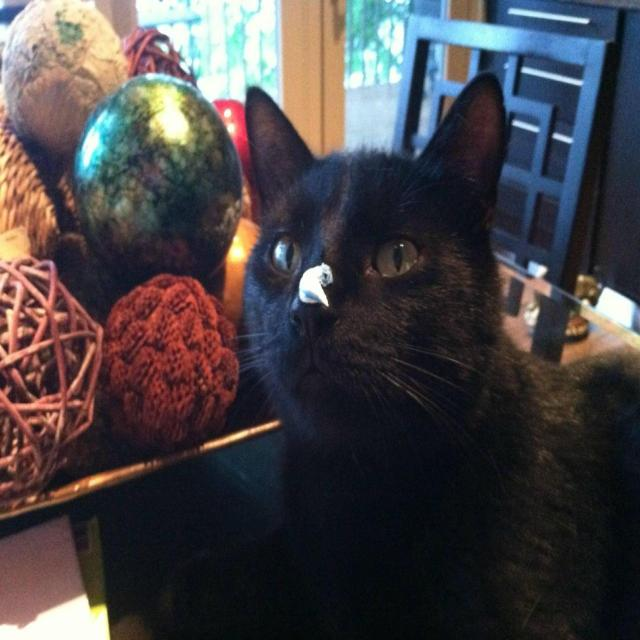dog: (231, 63, 640, 640)
